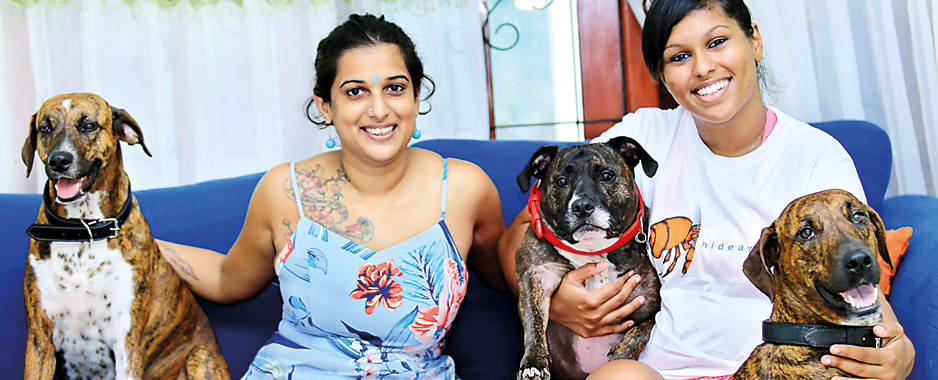Dog: (14, 87, 167, 380), (513, 134, 673, 380), (745, 168, 890, 380)
